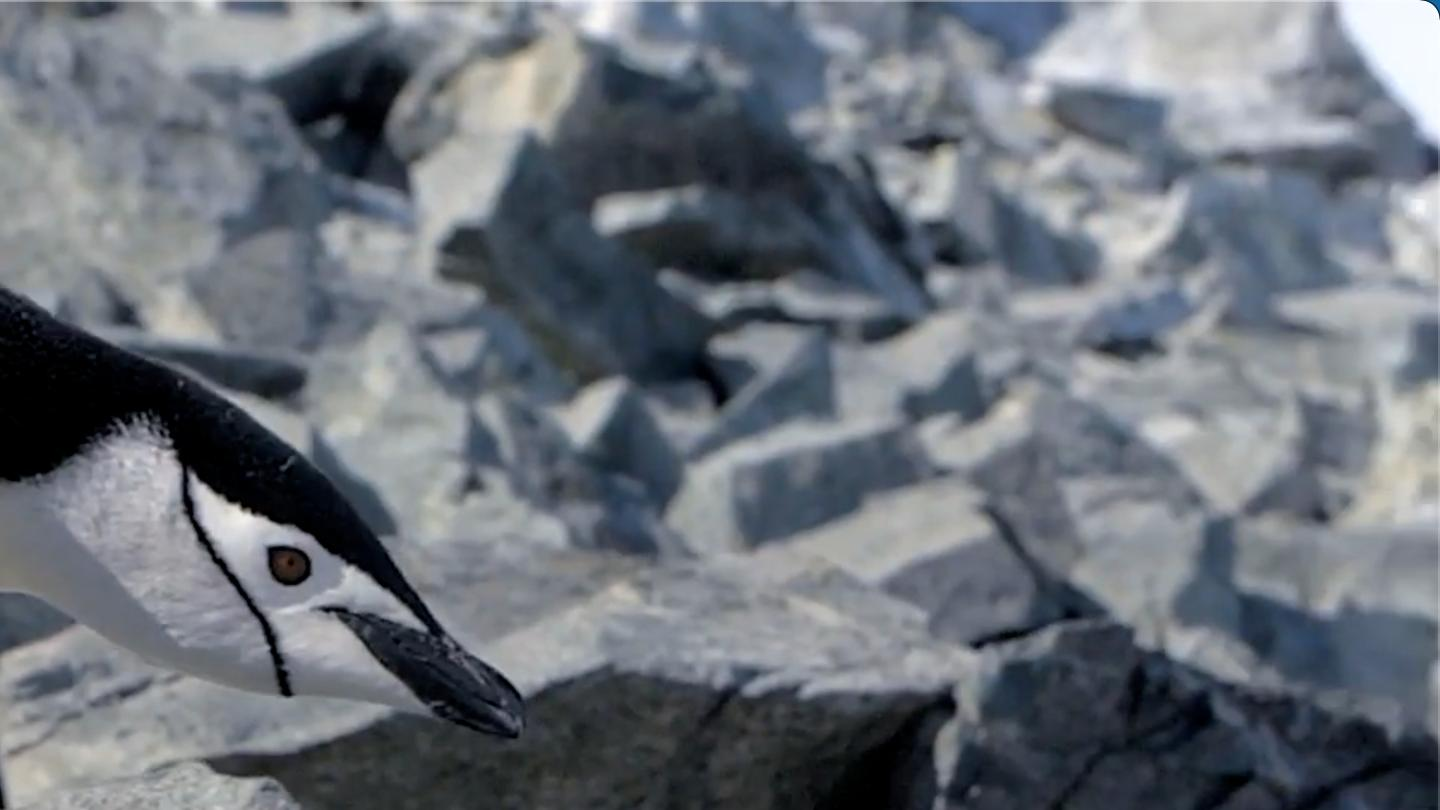Chinstrap Penguin: (0, 189, 526, 810)
